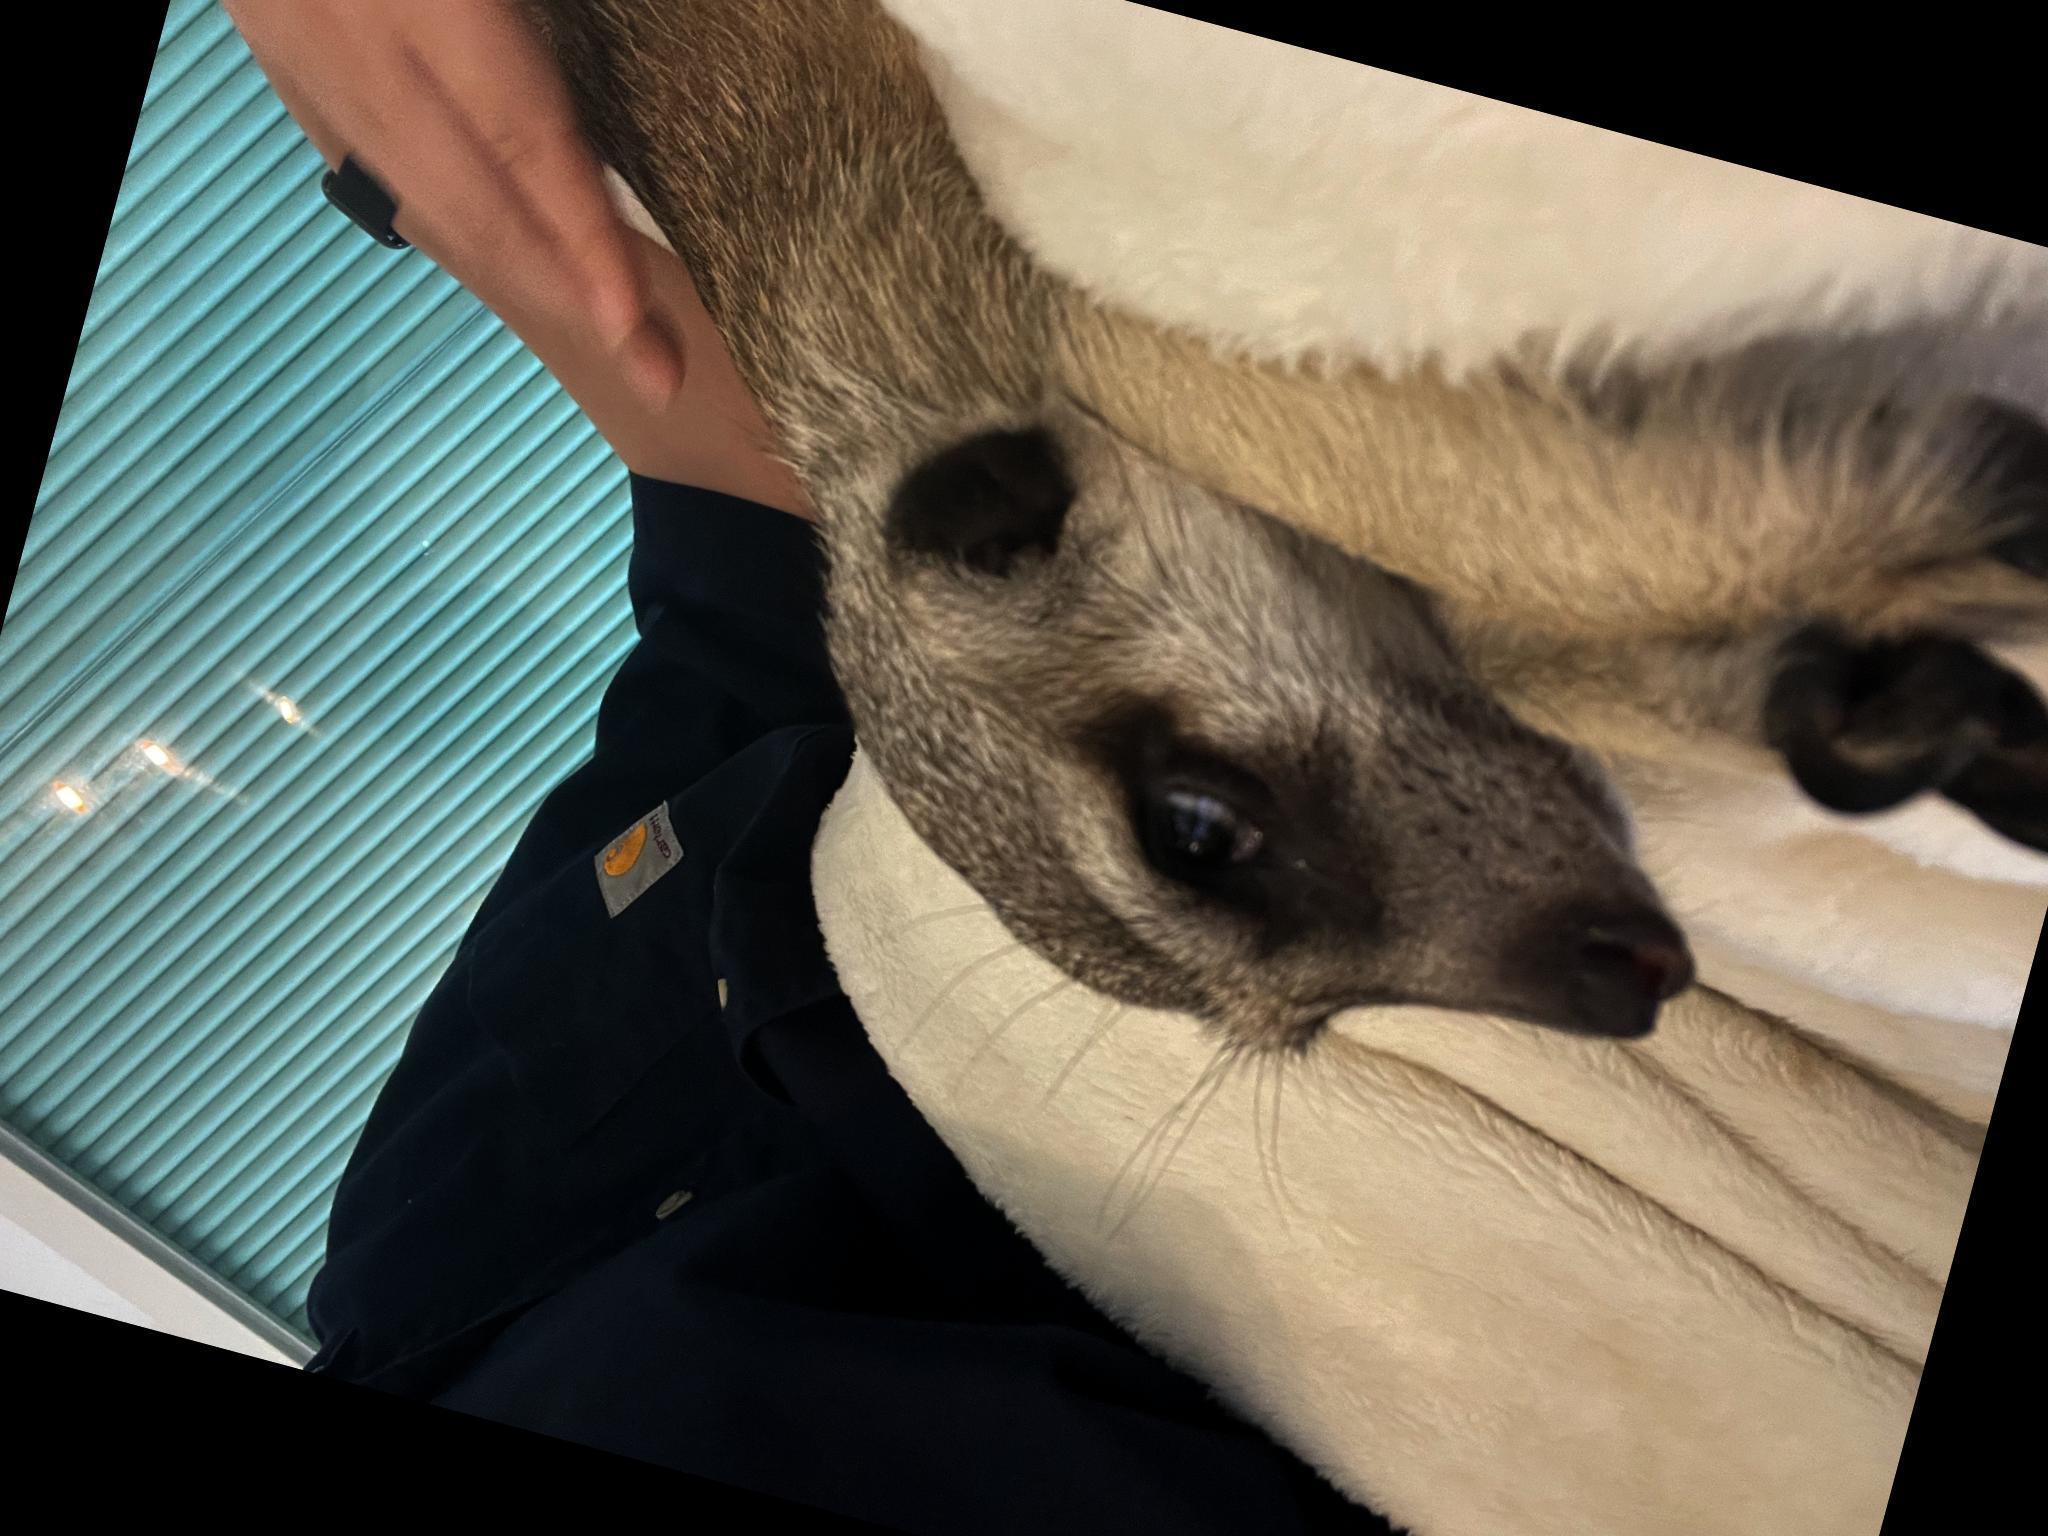meerkat: (0, 0, 1901, 1536)
